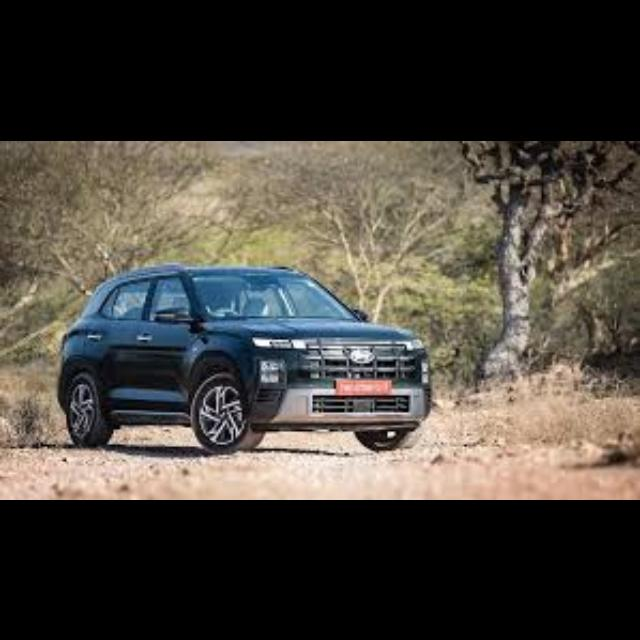number-plate: (334, 378, 392, 395), (354, 397, 373, 410)
vehicles: (52, 258, 435, 457)
